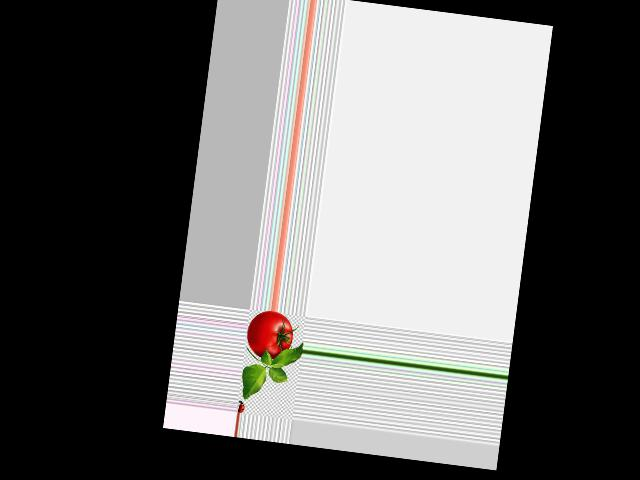tomato: (244, 308, 295, 361)
